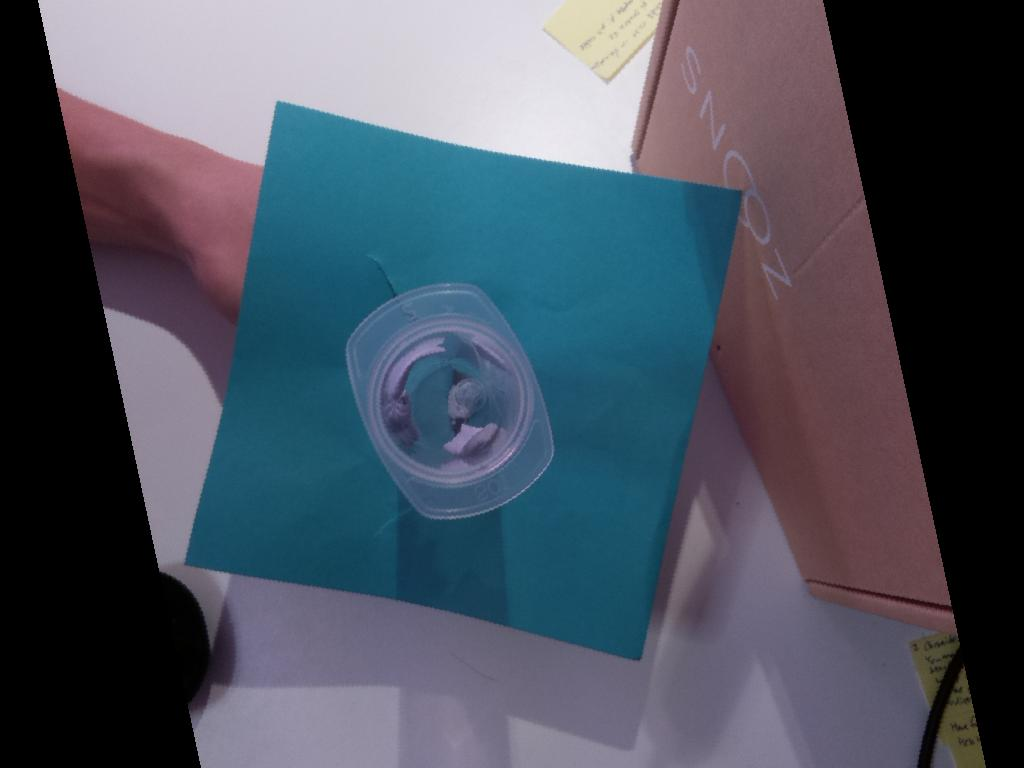dirty: (336, 268, 564, 537)
